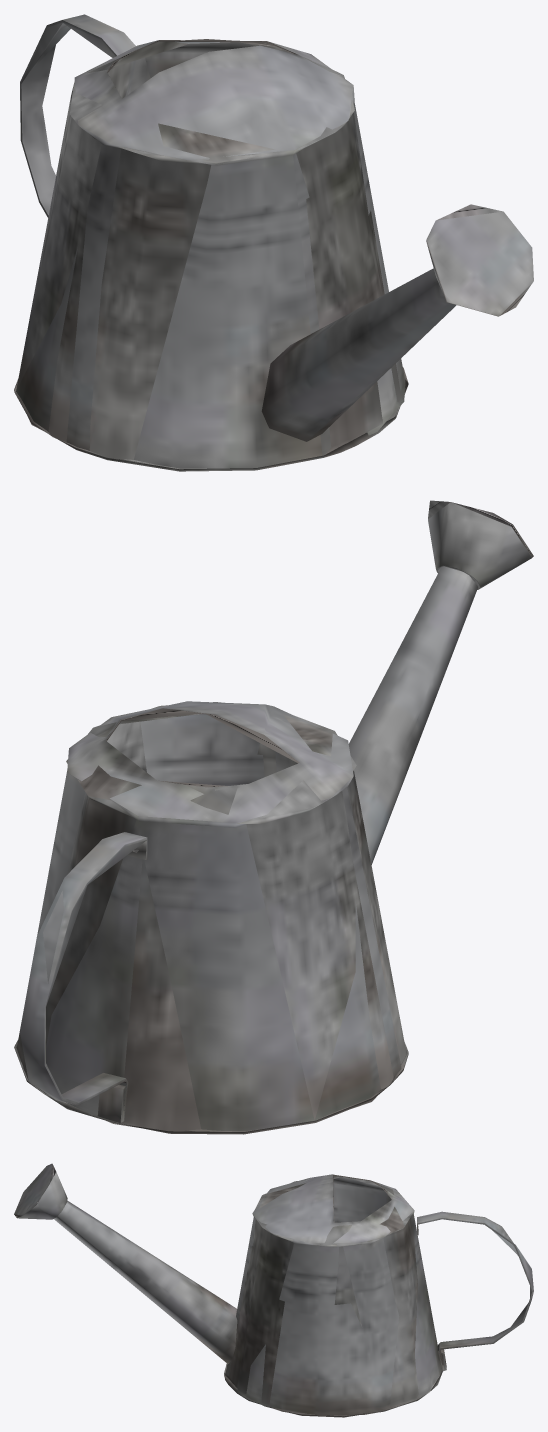
File: watering-can.lite.24426609.glb
3 renders of one model, top to bottom at view 1: azimuth 30°, elevation 25°; view 2: azimuth 150°, elevation 25°; view 3: azimuth 270°, elevation 25°, orthographic. The views are drawn at different scales.
Parts seen in each view (by area): view 1: model; view 2: model; view 3: model.
Boxes of the visible parts, box(x1,y1,x2,y2) form: model: box(14, 14, 533, 471); model: box(14, 500, 533, 1134); model: box(14, 1163, 533, 1417).
Bounding box in the file's own units: 0.1896 × 0.1949 × 0.4521.
1 material, 1 textured.
